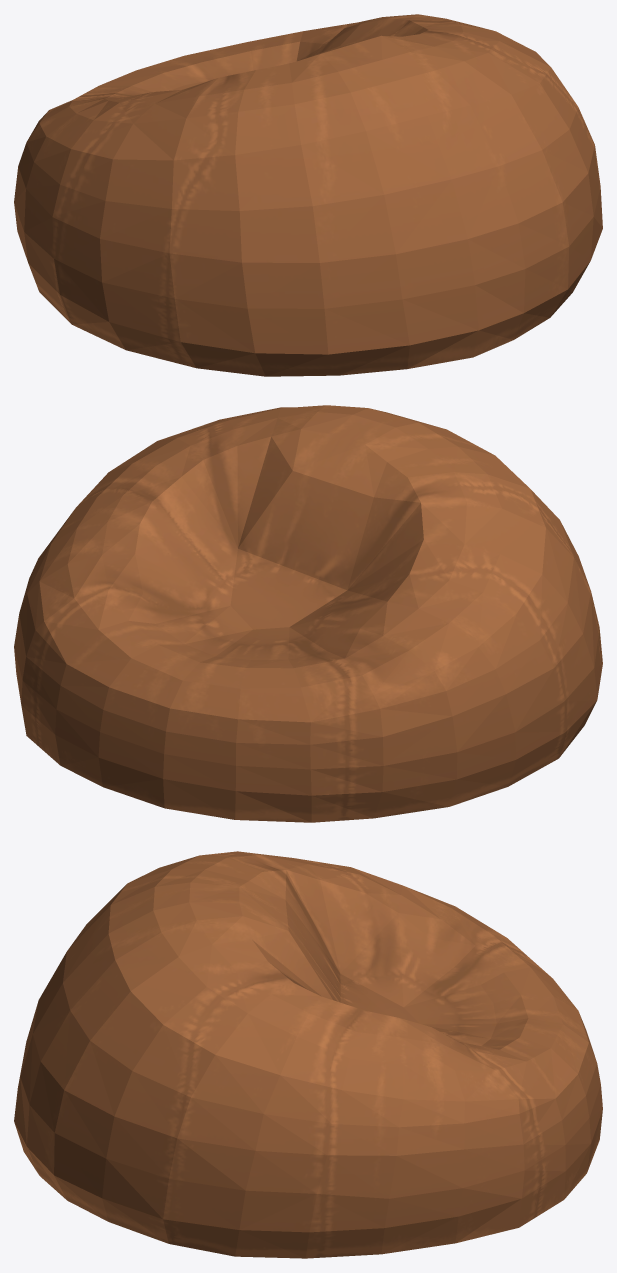
Rendered from P_LazySofa_002_S1_M04.obj.
3 views of the same model, one above another, from view 1: azimuth 30°, elevation 25°; view 2: azimuth 150°, elevation 25°; view 3: azimuth 270°, elevation 25° (orthographic).
Bounding box in the file's own units: 1.66 × 0.7558 × 1.65.
1 material, 1 textured.
